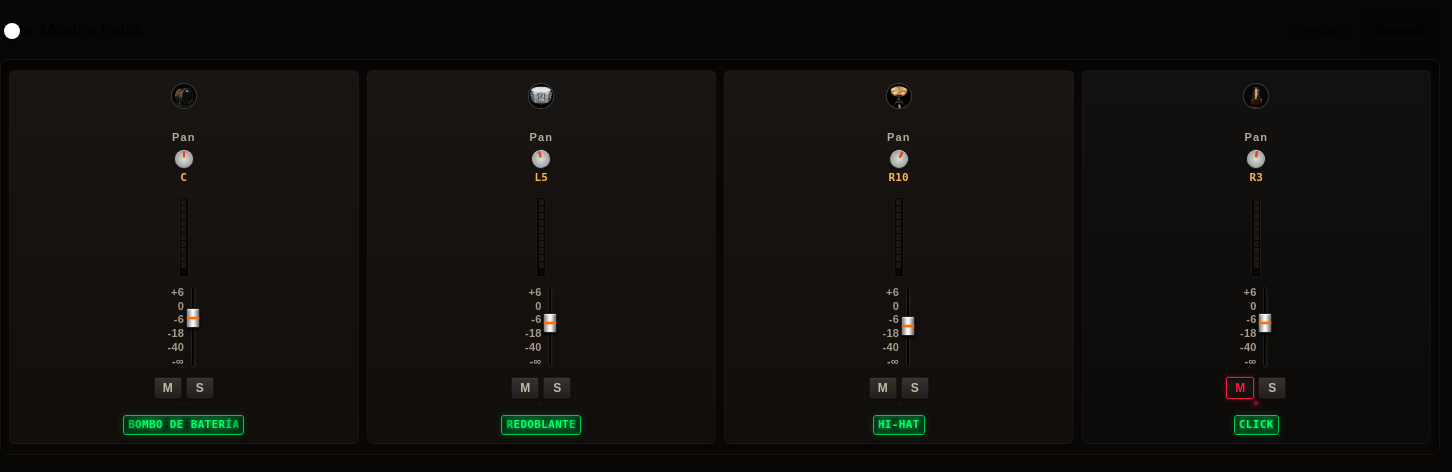
Scenario: MixerConsole › channels in use, solo and the compact view › shows only the channels the rhythm uses (plus the click) until "Mostrar todos" is on
Expected: the element with test id "mixer-channel-kick" is shown, top-left (9, 70), bottom-right (358, 444)
Expected: the element with test id "mixer-channel-snare" is shown, top-left (366, 70), bottom-right (716, 444)
What coordinates should you click on to do the following:
click the switch labelled "Mostrar todos"
I would click on:
 (71, 31)
Its box is top-left (0, 19), bottom-right (142, 43).
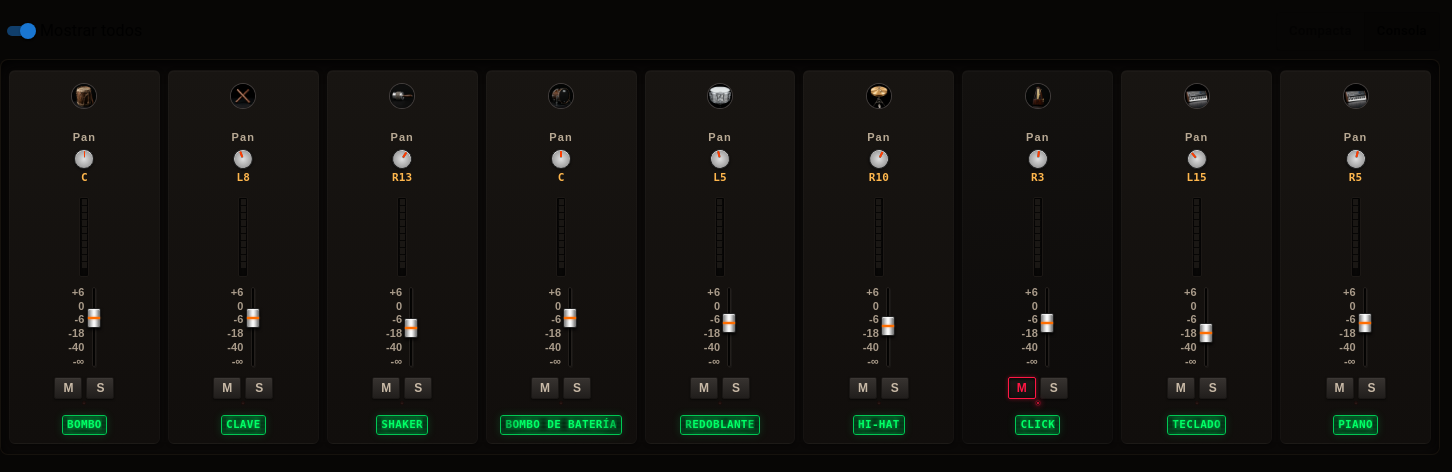
Expected: the element with test id "mixer-channel-bombo" is shown, top-left (9, 70), bottom-right (160, 444)
Expected: the element with test id "mixer-channel-piano" is shown, top-left (1280, 70), bottom-right (1431, 444)
